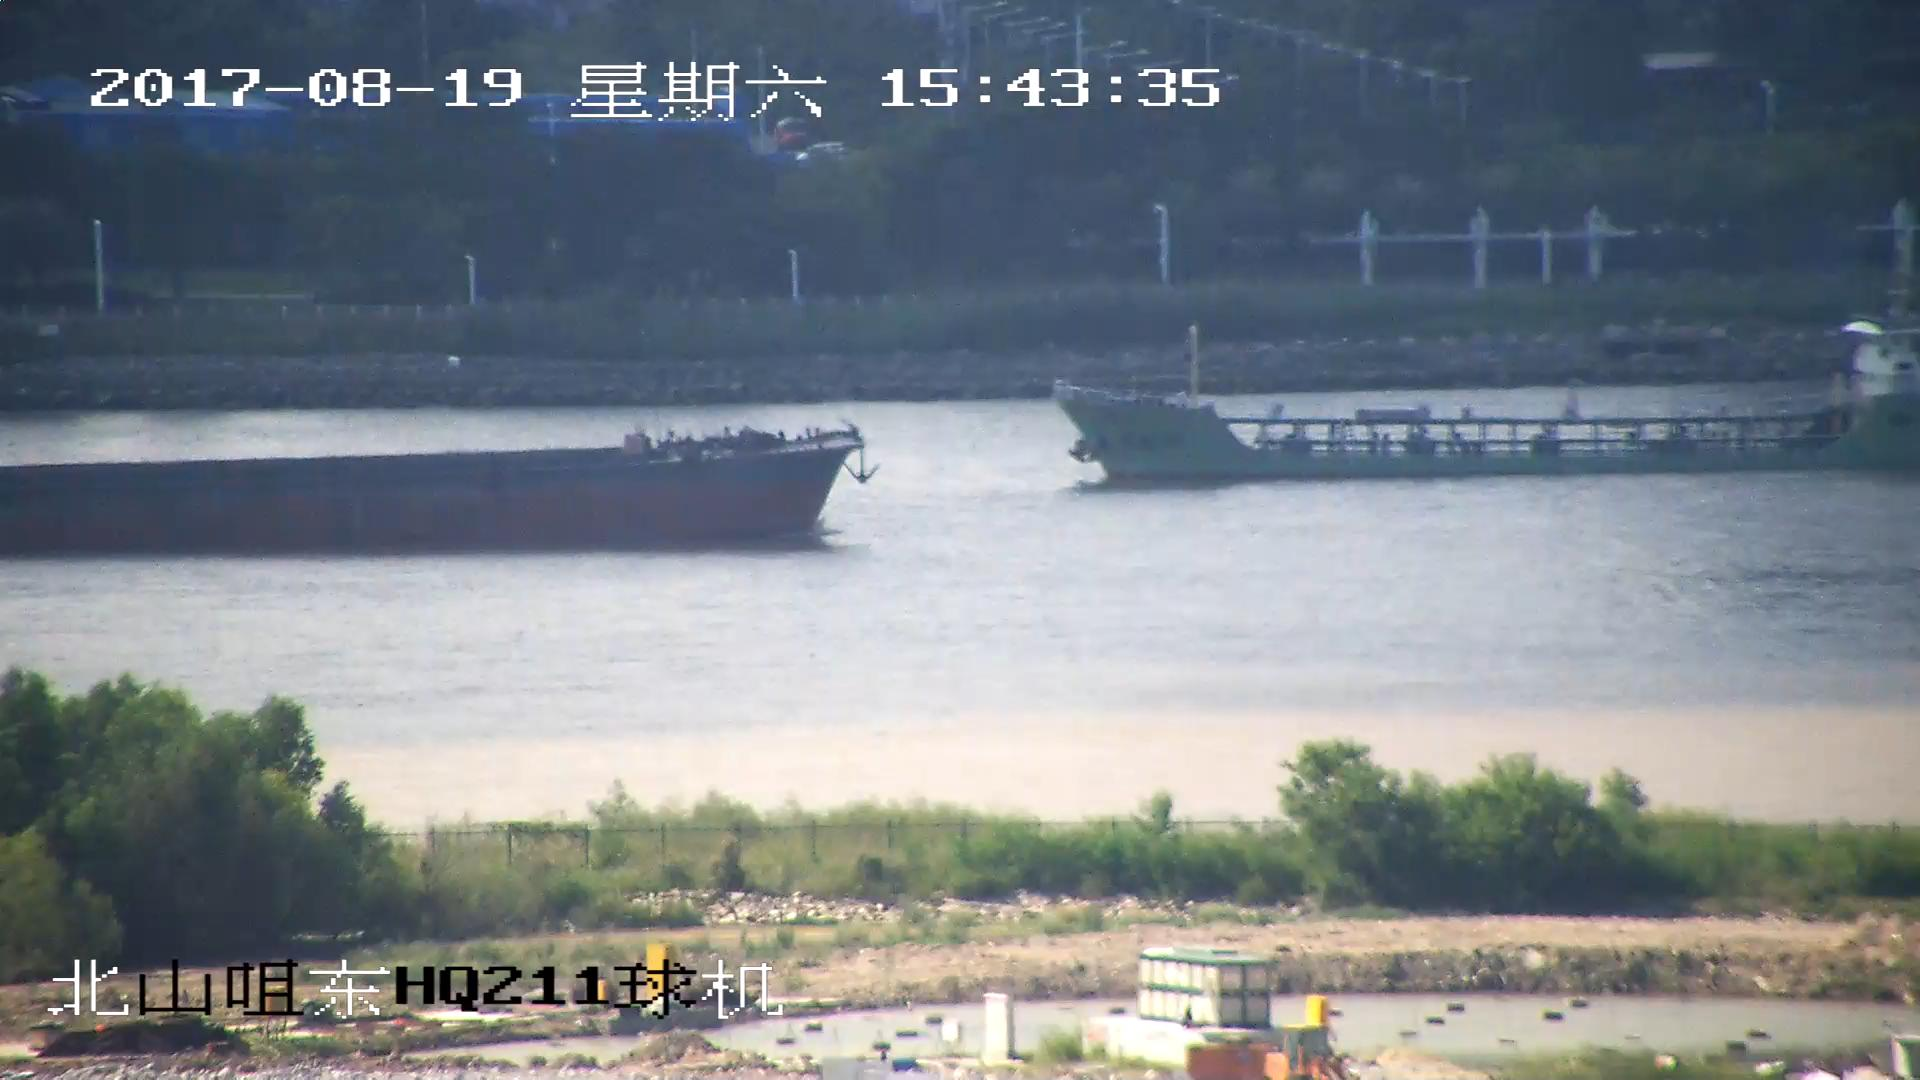bulk cargo carrier: (1, 422, 866, 557)
general cargo ship: (1052, 327, 1920, 484)
